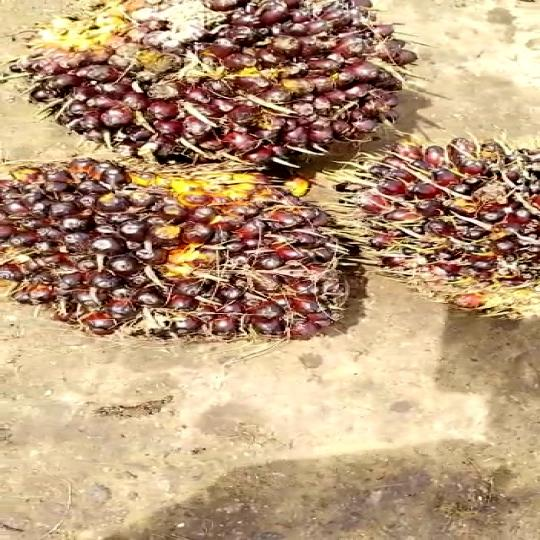kurang masak: (0, 147, 393, 373), (0, 0, 405, 170), (346, 129, 540, 323)
